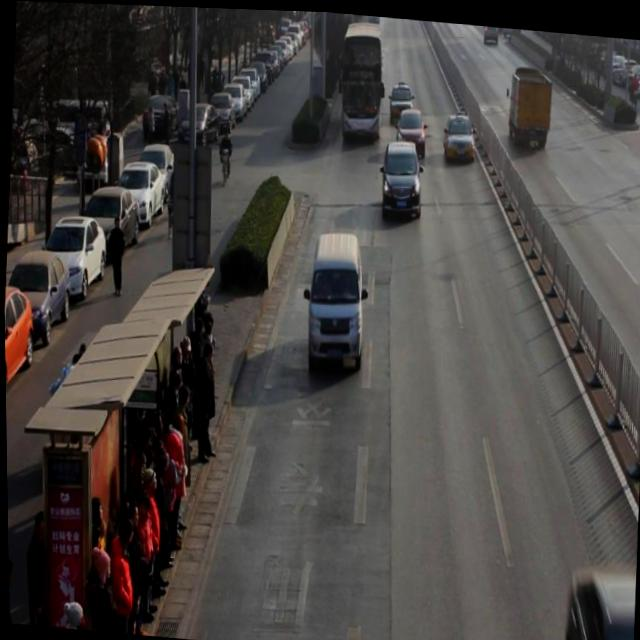bus: (508, 62, 555, 147)
car: (562, 559, 635, 640), (380, 137, 424, 221), (443, 110, 477, 163), (395, 104, 427, 157), (388, 81, 415, 126)
truck: (304, 229, 368, 373)
van: (339, 17, 386, 140)
